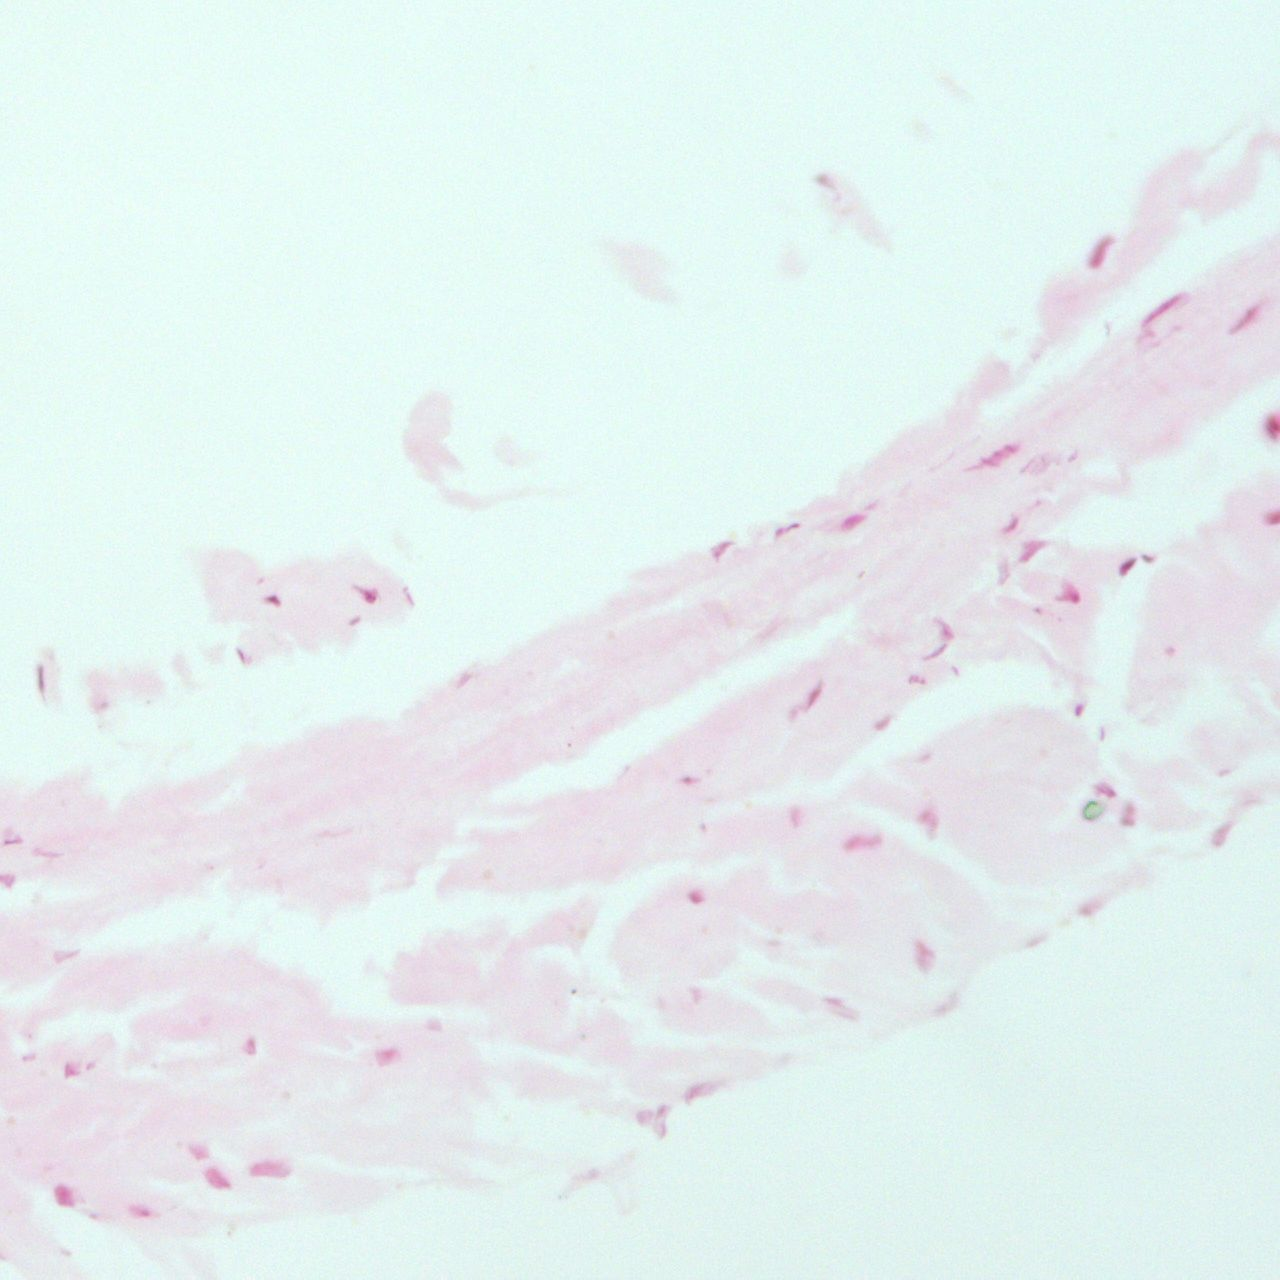dust: (1081, 801, 1104, 821)
nucleus-AC: (1136, 290, 1184, 331), (971, 440, 1019, 478), (680, 1073, 724, 1107), (1082, 232, 1116, 271), (1225, 305, 1260, 338), (1207, 816, 1237, 850), (801, 678, 826, 712), (1016, 535, 1046, 564), (935, 989, 964, 1017), (930, 614, 956, 644), (353, 579, 381, 606), (838, 508, 867, 533), (823, 993, 858, 1014), (843, 833, 881, 851), (914, 941, 935, 973), (1078, 894, 1104, 920), (251, 1159, 291, 1176), (919, 642, 948, 665), (52, 942, 82, 964), (708, 536, 735, 559), (203, 1167, 231, 1189), (1056, 579, 1080, 604), (919, 809, 937, 840), (653, 1102, 667, 1138), (1116, 554, 1138, 577), (53, 1183, 73, 1207), (375, 1046, 399, 1065), (1022, 932, 1047, 951), (774, 520, 802, 537), (1262, 413, 1279, 438), (1121, 801, 1136, 828), (452, 672, 472, 690), (874, 713, 893, 733), (635, 1108, 654, 1125), (401, 585, 416, 606), (36, 663, 46, 697), (835, 1008, 859, 1021), (685, 888, 707, 903), (1003, 516, 1020, 535), (790, 805, 802, 828), (688, 985, 701, 1003), (678, 774, 703, 783), (130, 1205, 150, 1217), (189, 1146, 209, 1158), (1096, 784, 1116, 796), (425, 1017, 441, 1033), (234, 647, 247, 663), (62, 1065, 80, 1077), (244, 1037, 256, 1055), (949, 663, 964, 678), (263, 594, 280, 605), (1267, 511, 1280, 525), (907, 675, 926, 685), (2, 837, 20, 845), (1073, 704, 1084, 716), (21, 1054, 38, 1061), (1217, 769, 1230, 777), (350, 615, 361, 625), (1098, 728, 1105, 741), (86, 1062, 96, 1070), (1165, 646, 1173, 655)
